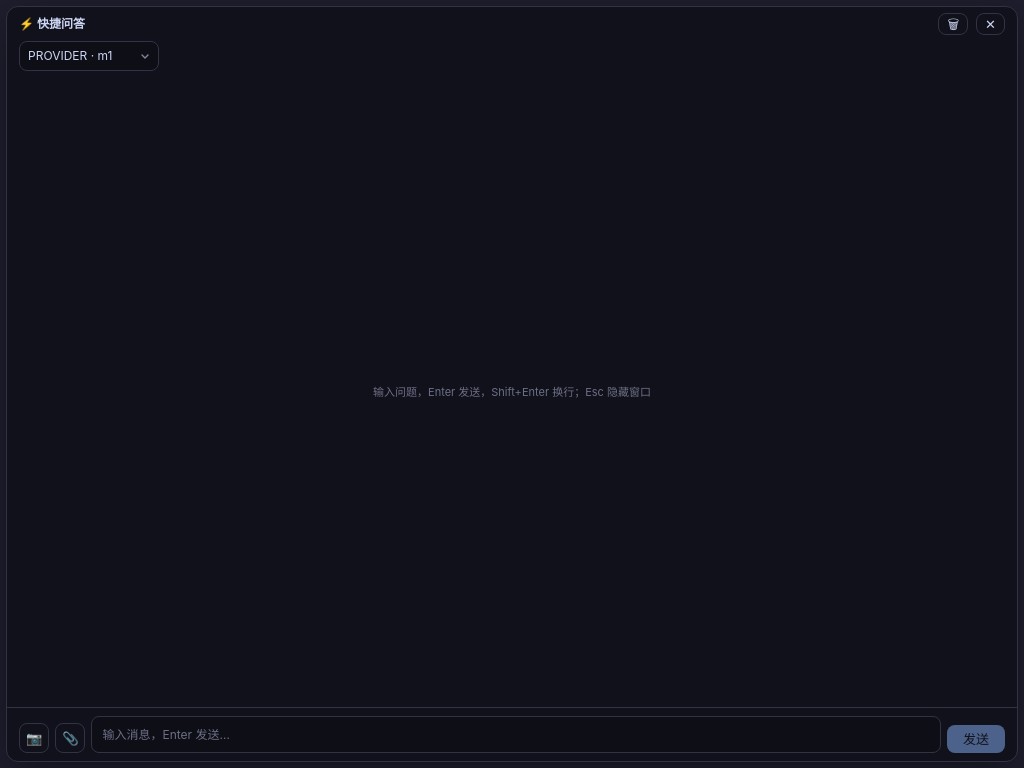
it: P1-4 ④ 浮窗内 📷 入口：同一条附件链路，目标三选一 › 区域框选取消 ⇒ 收起浮窗叠层，不发起截图
Click the button with test id "popup-capture". click: click(34, 738)
box: [19,723,49,753]
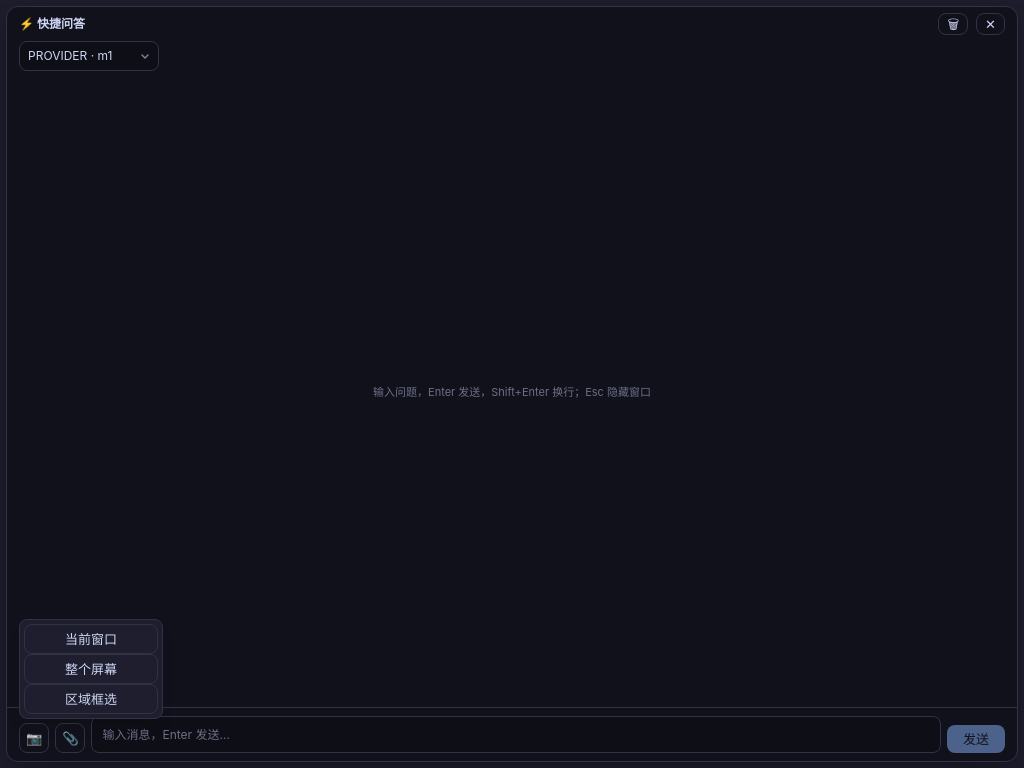
Click the button with test id "popup-capture-region". click: click(91, 699)
box: [24,684,158,714]
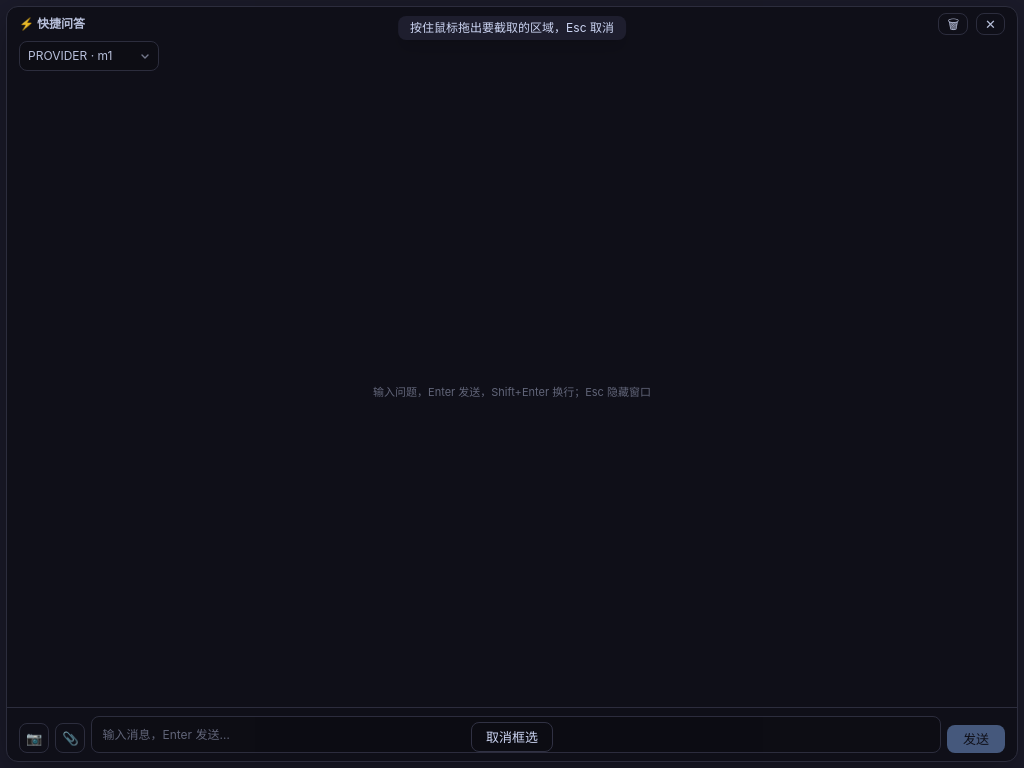
Click the button with test id "popup-region-cancel". click: click(512, 737)
box: [471,722,553,752]
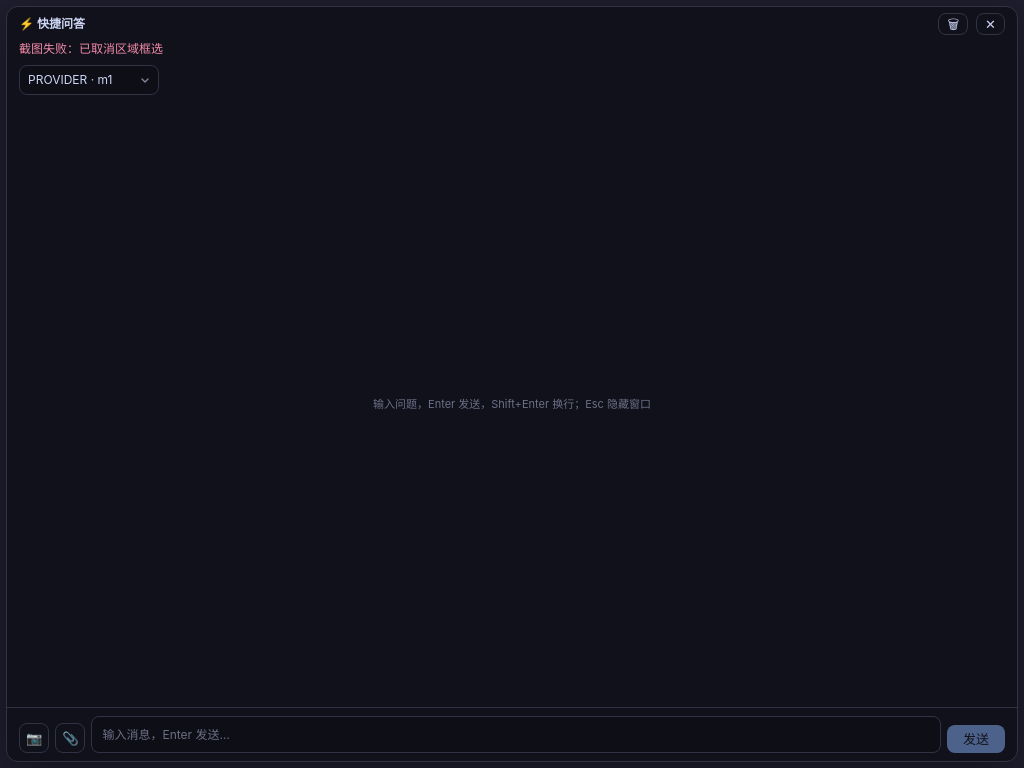
Expected: the element with test id "popup-region-overlay" is gone
Expected: the message with test id "popup-capture-error" shows "已取消区域框选", [19,41,163,56]
